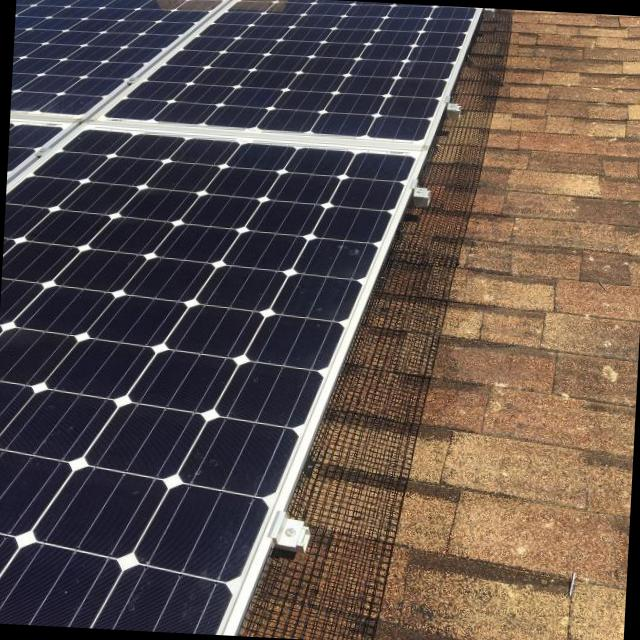no faulty: (0, 0, 481, 633)
